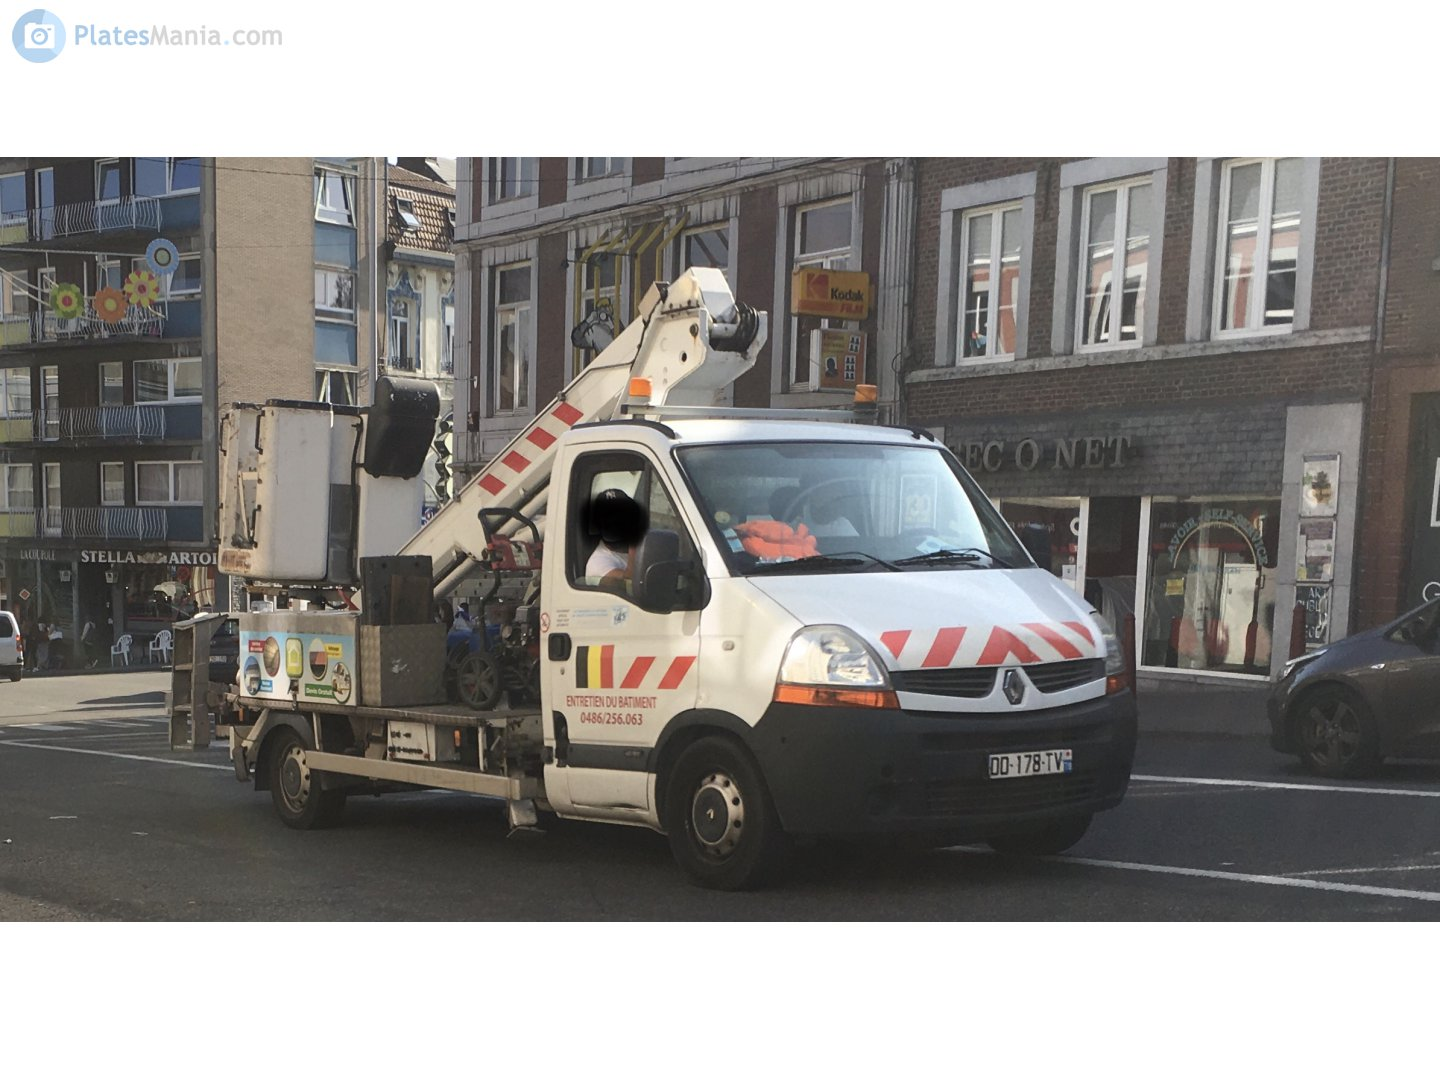licence plate: (985, 745, 1074, 782)
